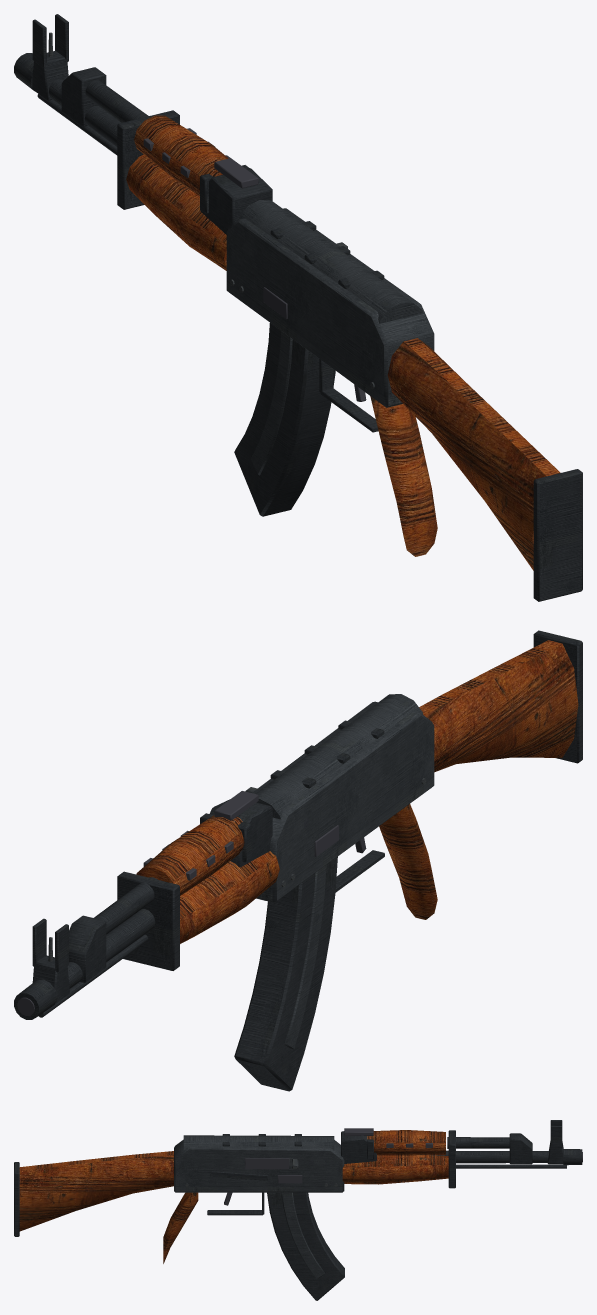
3 renders of one model, top to bottom at view 1: azimuth 30°, elevation 25°; view 2: azimuth 150°, elevation 25°; view 3: azimuth 270°, elevation 25°, orthographic. The views are drawn at different scales.
Parts seen in each view (by area): view 1: receiver, stock, magazine_body, buttplate, grip, dust_arch, handguard_low, handguard_up, rear_sight, magazine_rib, ferrule_front, gas_block (+5 smaller); view 2: receiver, stock, magazine_body, dust_arch, handguard_low, handguard_up, grip, ferrule_front, magazine_rib, gas_block, buttplate, barrel (+9 smaller); view 3: stock, receiver, magazine_body, handguard_low, handguard_up, dust_arch, magazine_rib, grip, barrel, rear_sight, gas_block, gas_tube (+9 smaller).
Part boxes in pixels (x1=…): receiver: x1=226, y1=208, x2=434, y2=407; stock: x1=387, y1=338, x2=560, y2=570; magazine_body: x1=234, y1=323, x2=335, y2=516; buttplate: x1=533, y1=469, x2=582, y2=601; grip: x1=370, y1=396, x2=437, y2=556; dust_arch: x1=238, y1=200, x2=423, y2=323; handguard_low: x1=126, y1=154, x2=226, y2=270; handguard_up: x1=134, y1=115, x2=228, y2=196; rear_sight: x1=200, y1=168, x2=272, y2=234; magazine_rib: x1=251, y1=331, x2=292, y2=475; ferrule_front: x1=117, y1=110, x2=179, y2=209; gas_block: x1=61, y1=67, x2=106, y2=126; receiver: x1=252, y1=701, x2=434, y2=902; stock: x1=419, y1=640, x2=578, y2=772; magazine_body: x1=234, y1=856, x2=337, y2=1091; dust_arch: x1=255, y1=694, x2=423, y2=819; handguard_low: x1=180, y1=851, x2=279, y2=943; handguard_up: x1=136, y1=815, x2=244, y2=895; grip: x1=379, y1=804, x2=437, y2=919; ferrule_front: x1=117, y1=871, x2=179, y2=970; magazine_rib: x1=284, y1=865, x2=326, y2=1050; gas_block: x1=69, y1=915, x2=106, y2=982; buttplate: x1=533, y1=630, x2=582, y2=763; barrel: x1=67, y1=909, x2=155, y2=988; stock: x1=19, y1=1151, x2=173, y2=1231; receiver: x1=174, y1=1139, x2=344, y2=1192; magazine_body: x1=267, y1=1192, x2=344, y2=1300; handguard_low: x1=342, y1=1155, x2=448, y2=1184; handguard_up: x1=367, y1=1130, x2=445, y2=1155; dust_arch: x1=183, y1=1135, x2=334, y2=1150; magazine_rib: x1=281, y1=1192, x2=324, y2=1279; grip: x1=163, y1=1192, x2=198, y2=1263; barrel: x1=431, y1=1150, x2=548, y2=1163; rear_sight: x1=341, y1=1131, x2=376, y2=1163; gas_block: x1=509, y1=1133, x2=532, y2=1164; gas_tube: x1=447, y1=1137, x2=509, y2=1148.
Size of the model in its own units: 3.07 by 11.71 by 34.73.
Materials: 5 (4 with a texture image).
